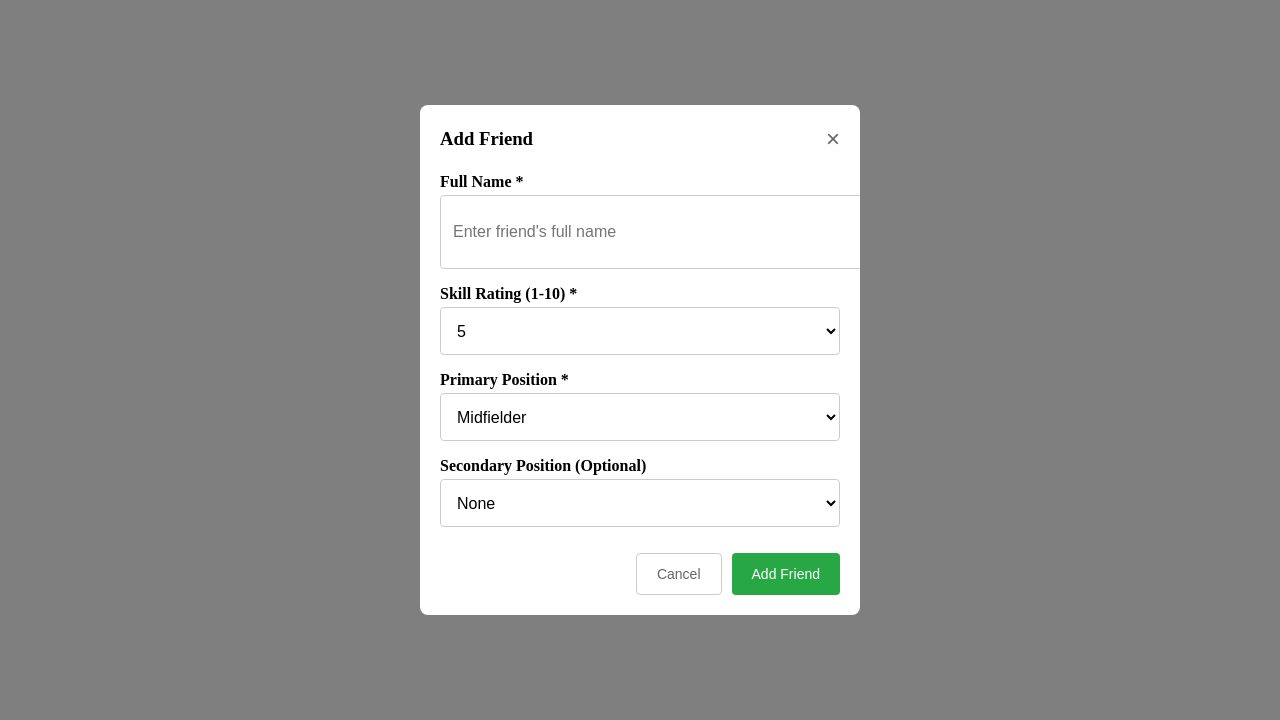
Test case: AddGuestModal › should validate position selections
// Fill valid name and rating
Type "John Doe" into the field labelled "Full Name *" at point(653, 232), box [440,195,866,269]
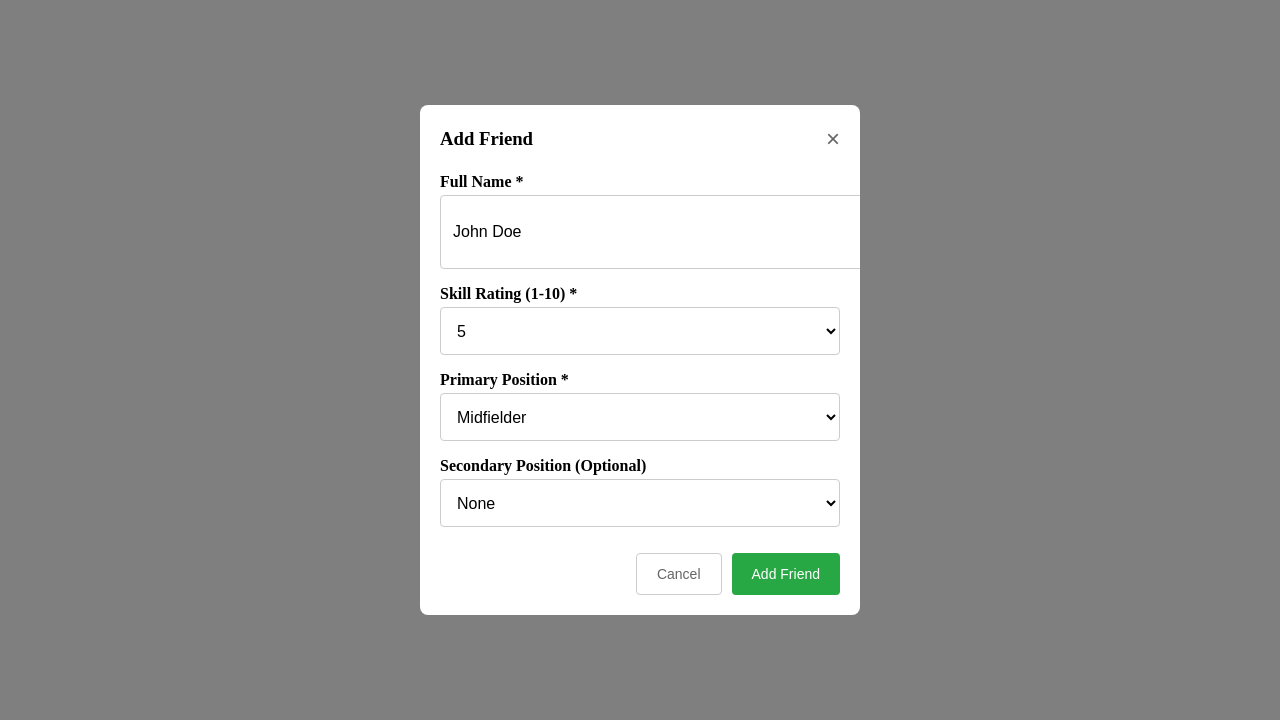
// Set same primary and secondary position
Select "Midfielder" in the dropdown labelled "Primary Position *" at point(640, 417), box [440,393,840,441]
Select "Midfielder" in the dropdown labelled "Secondary Position (Optional)" at point(640, 503), box [440,479,840,527]
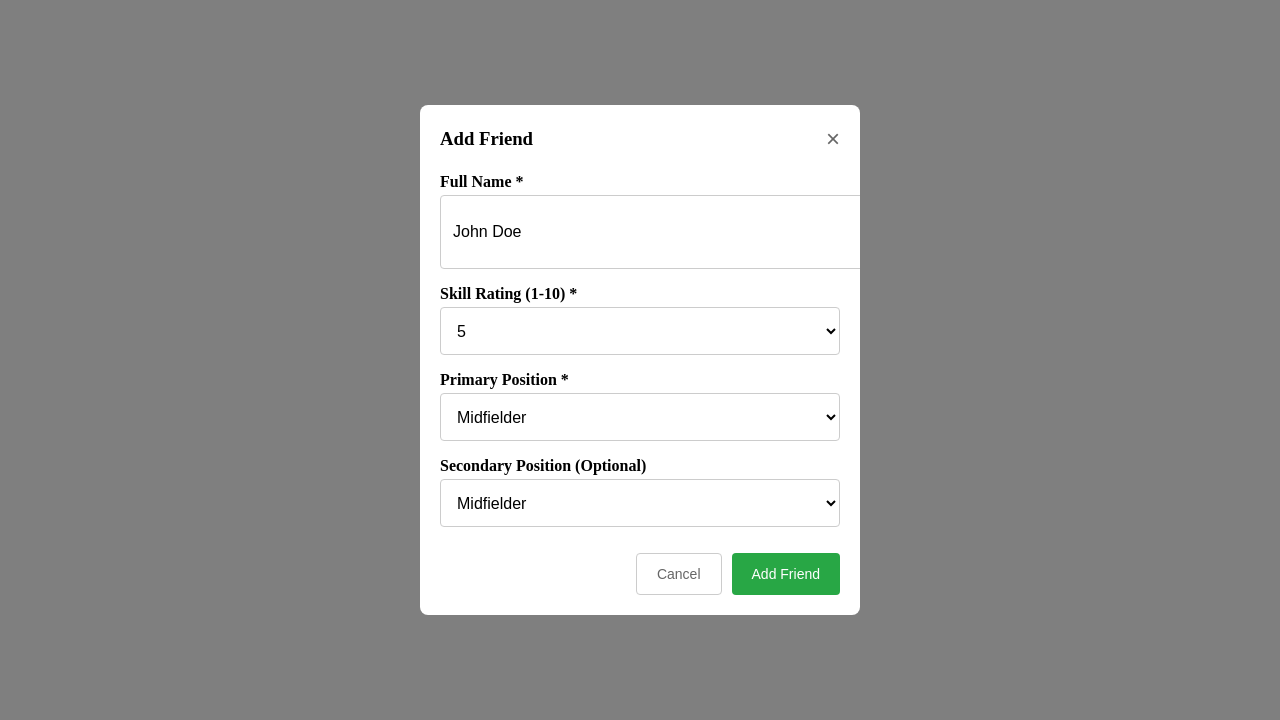
Click the button "Add Friend" at point(786, 574), box [732,553,840,595]
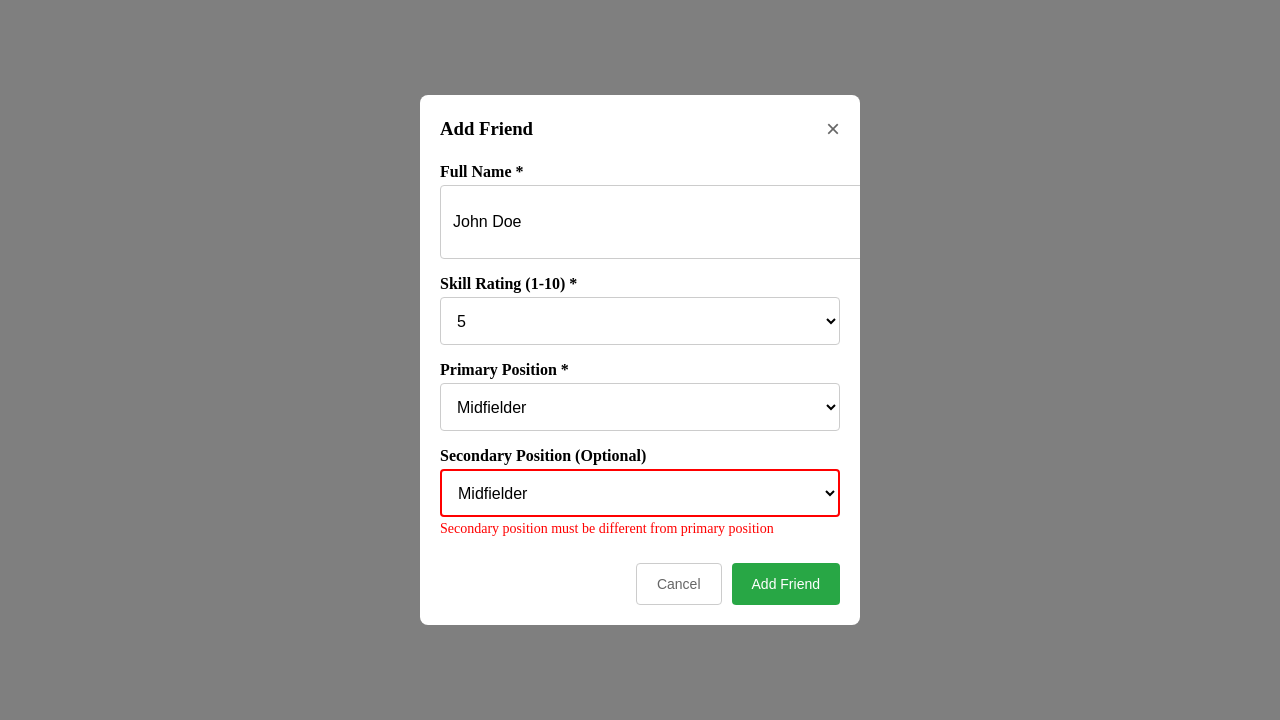
Expected: the text "Secondary position must be different from primary position" is shown, [440,521,774,536]
